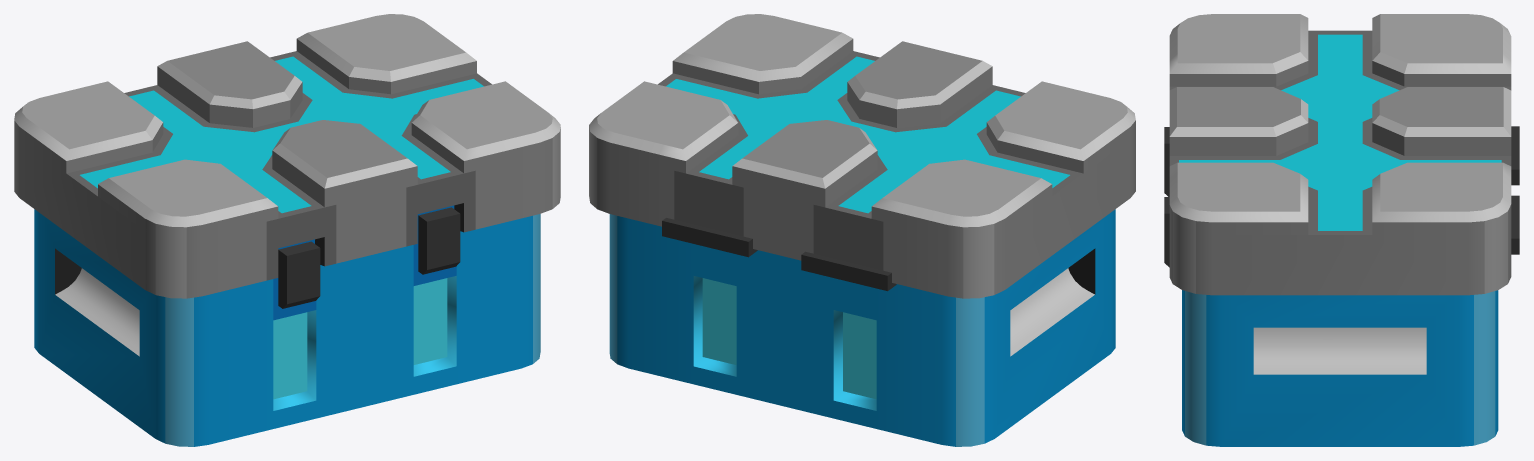
The model's file is Chest_02.fbx.
3 renders of one model, left to right at view 1: azimuth 30°, elevation 25°; view 2: azimuth 150°, elevation 25°; view 3: azimuth 270°, elevation 25°, orthographic. The views are drawn at different scales.
Visible parts, largest first — view 1: Chest_02; view 2: Chest_02; view 3: Chest_02.
Part boxes in pixels (left/top/right/bottom): Chest_02: left=14, top=14, right=560, bottom=446; Chest_02: left=589, top=14, right=1135, bottom=446; Chest_02: left=1164, top=14, right=1519, bottom=446.
Size of the model in its own units: 96.52 by 53.97 by 70.87.
